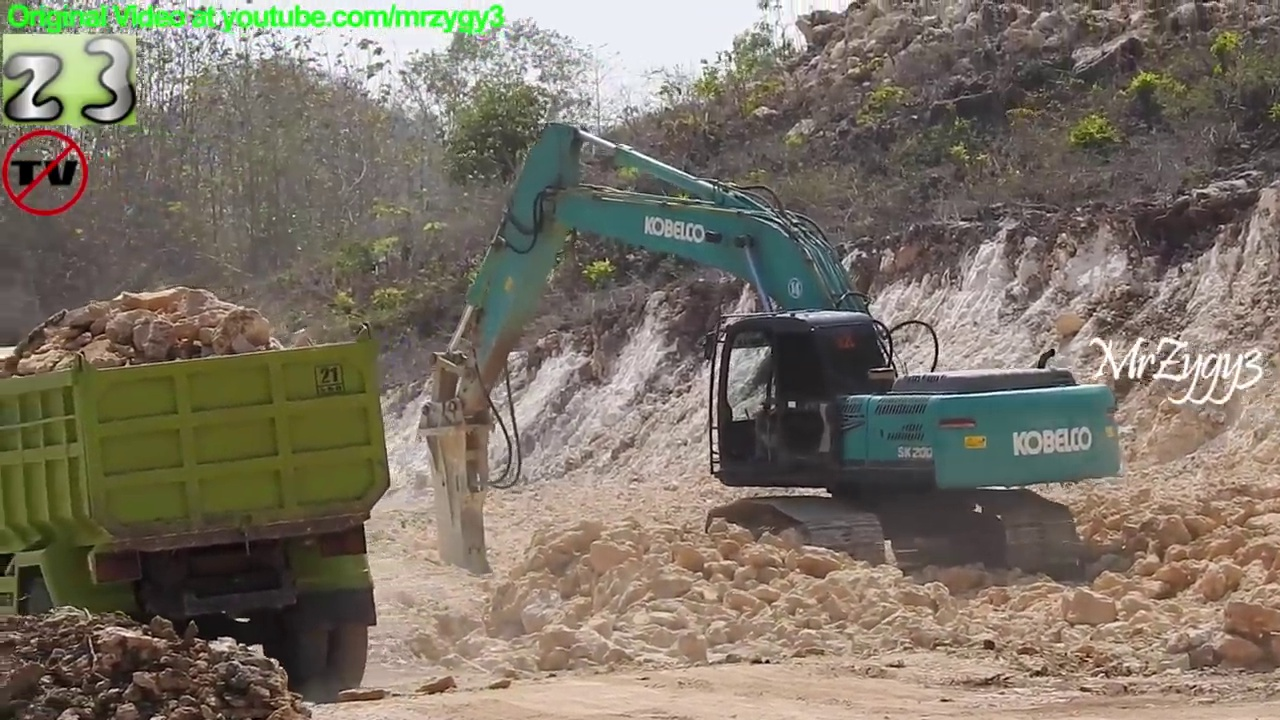excavator breaker: (413, 114, 1133, 592)
truck: (1, 327, 398, 712)
